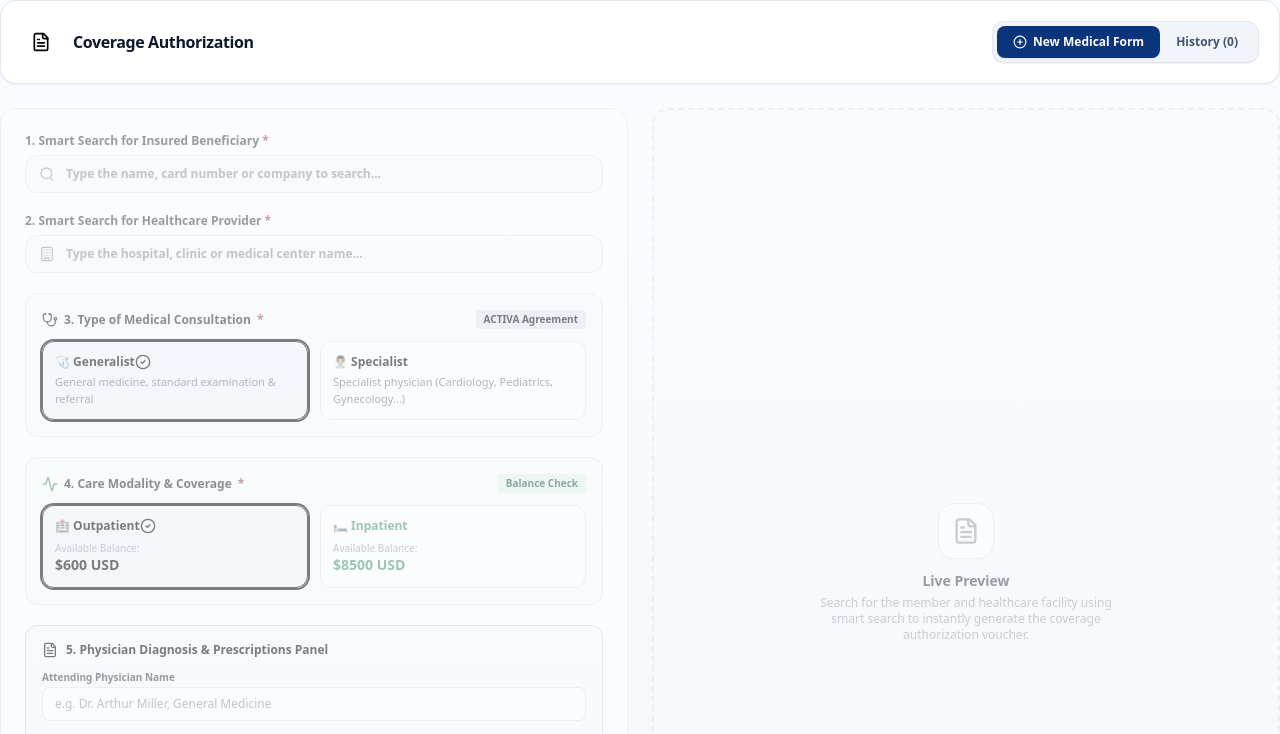
Test: AgentMedicalFormView — "Generate Medical Form" (caractérisation avant migration) › affiche une erreur et n'émet rien si le membre ou le prestataire n'est pas sélectionné
Click the button "New Medical Form": x=1079, y=42 [997, 26, 1160, 58]
(page scrolled)
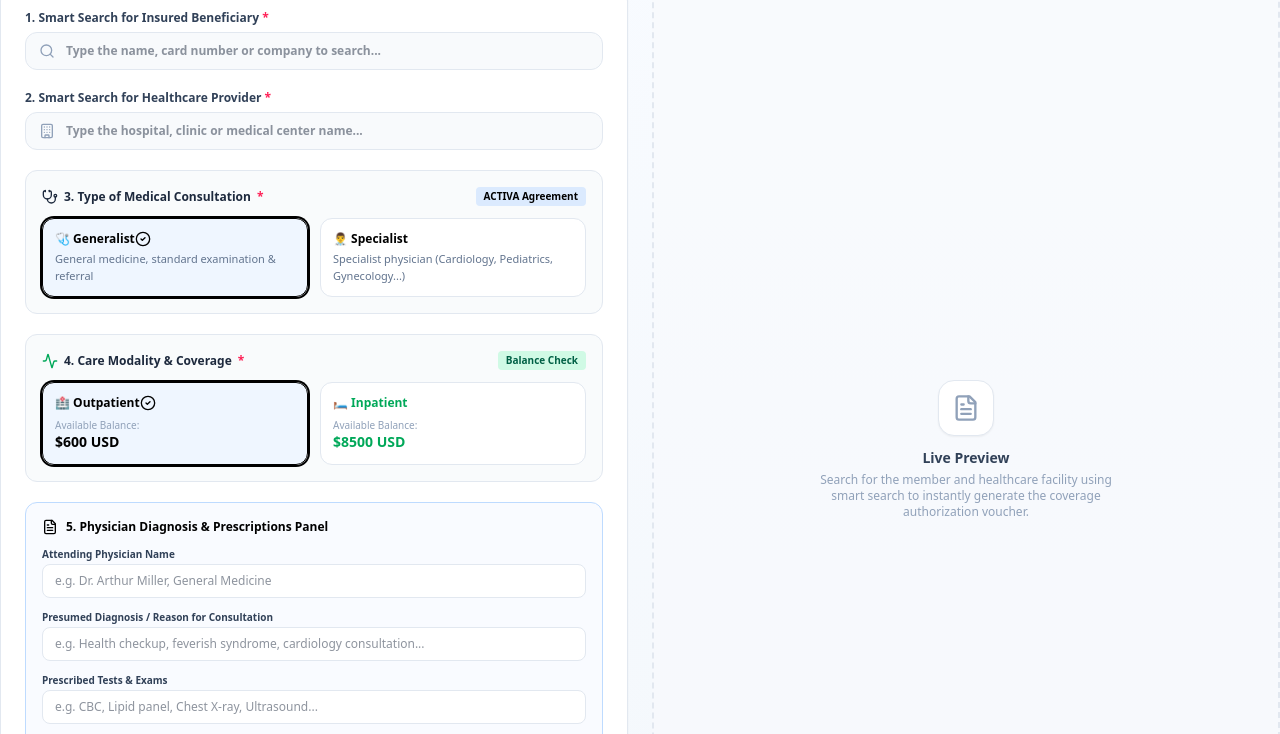
Submit the form
(page scrolled)
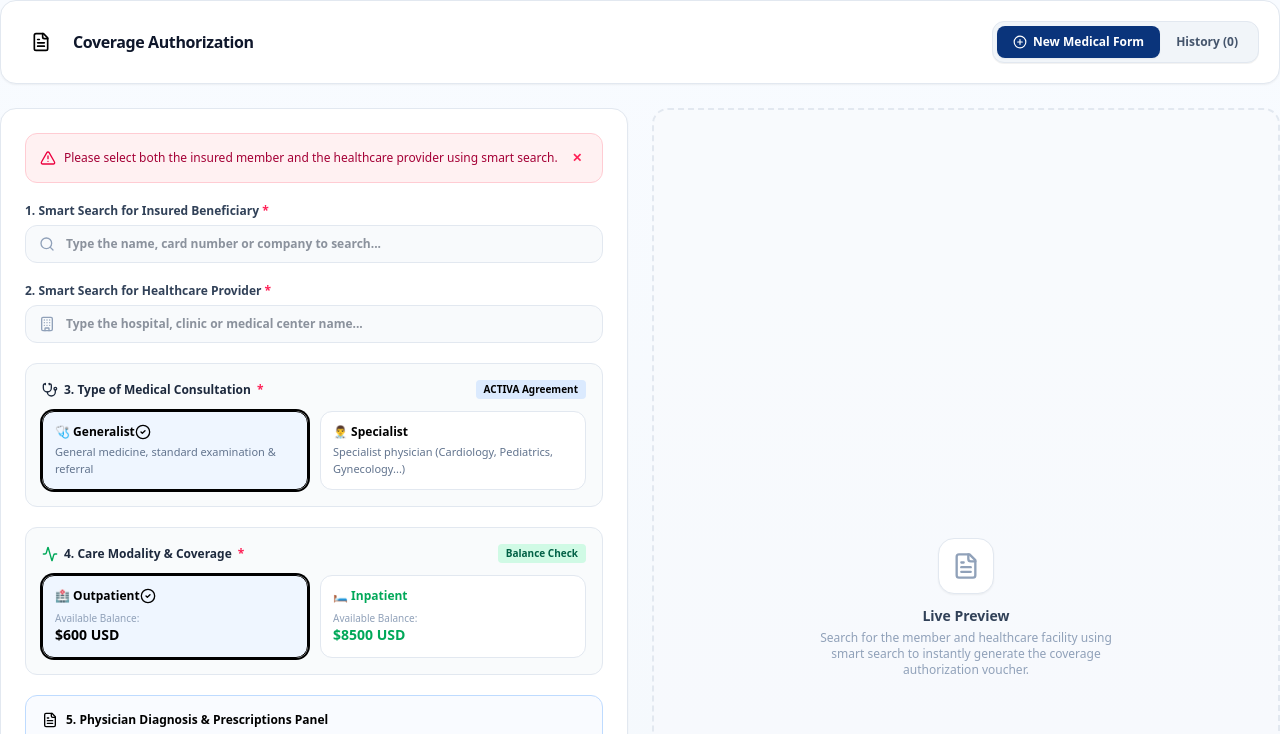
Result: the text "Please select both the insured member and the healthcare provider using smart search." is shown at [64, 149, 558, 166]
